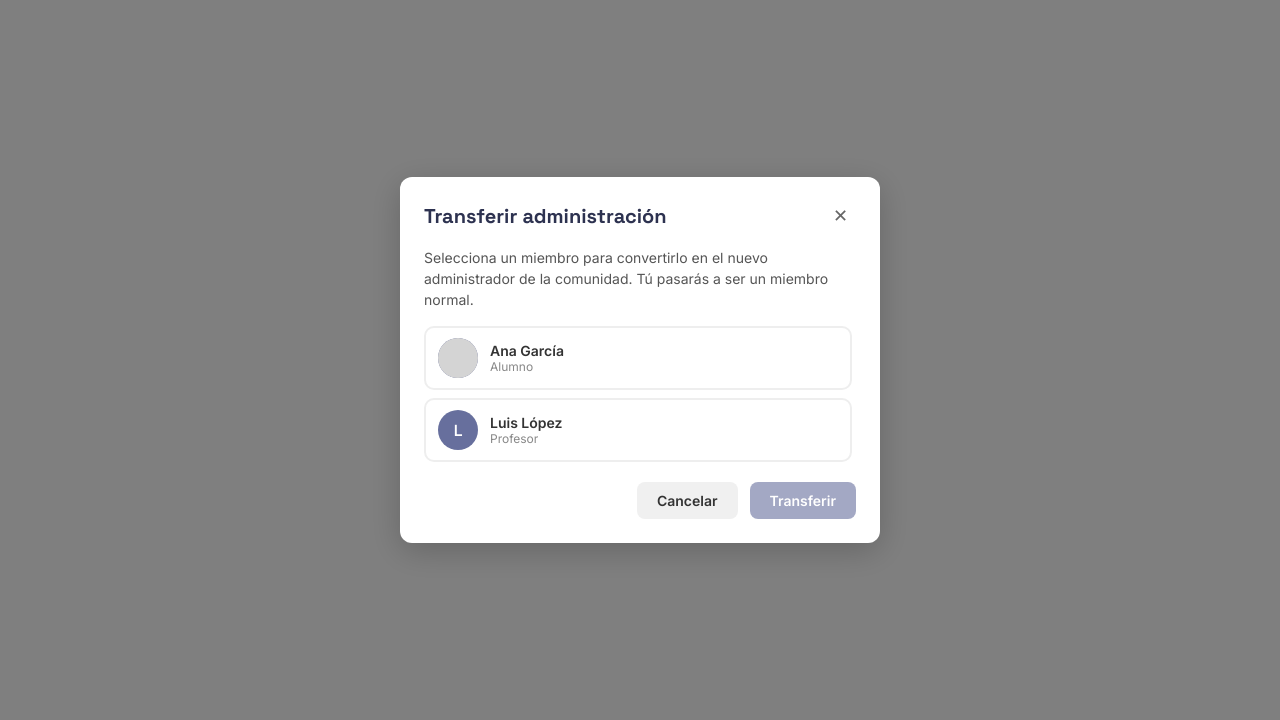
Scenario: TransferAdminModal › selects a member and shows confirm step
What coordinates should you click on to do the following:
click the text "Ana García"
I would click on:
 (527, 350)
Its box is [490,342,564,359].
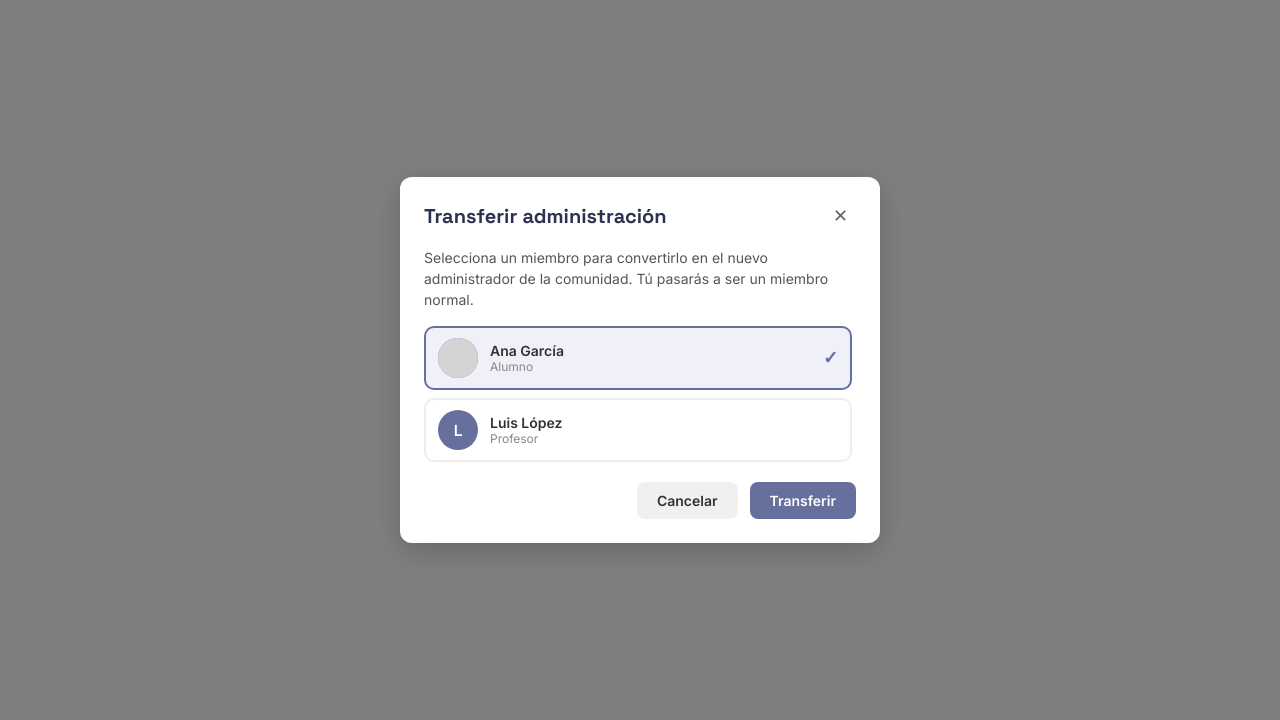
What coordinates should you click on to do the following:
click the button "Transferir"
I would click on:
 (803, 500)
Its box is [750,482,856,519].
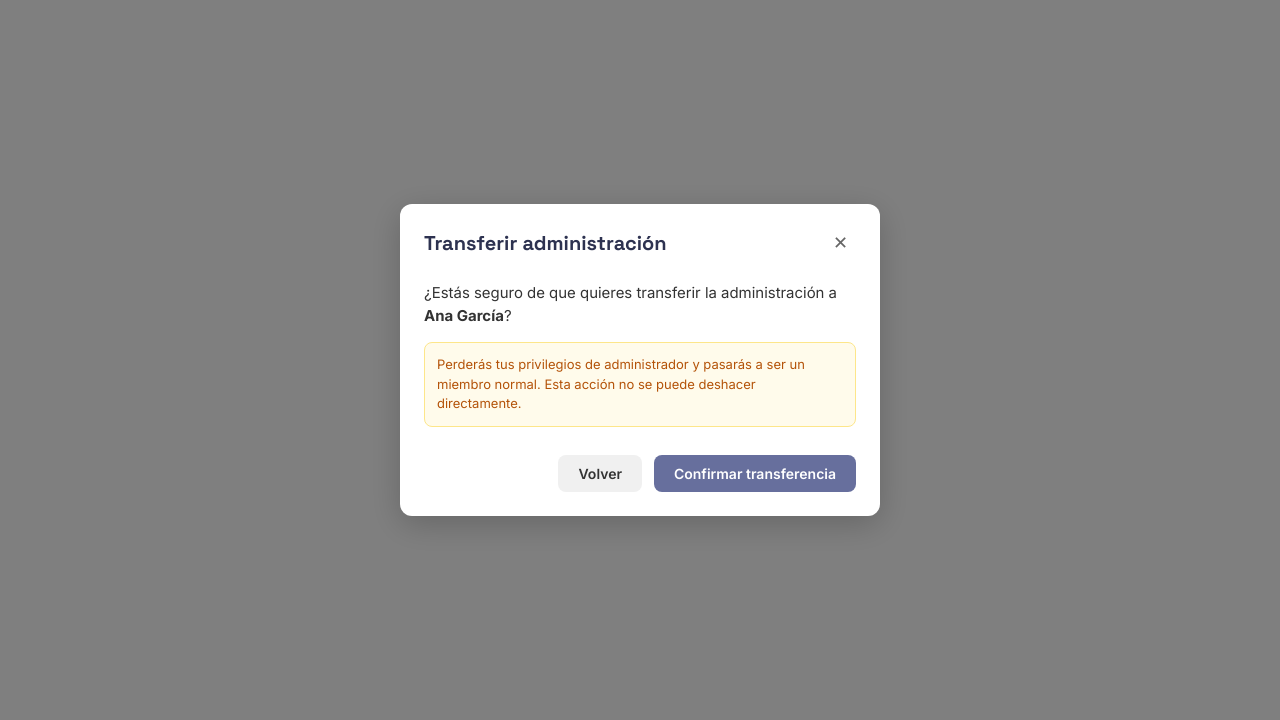
Expected: the text "Ana García" is shown, [424,306,504,325]
Expected: the text "¿Estás seguro" is shown, [424,283,837,302]
